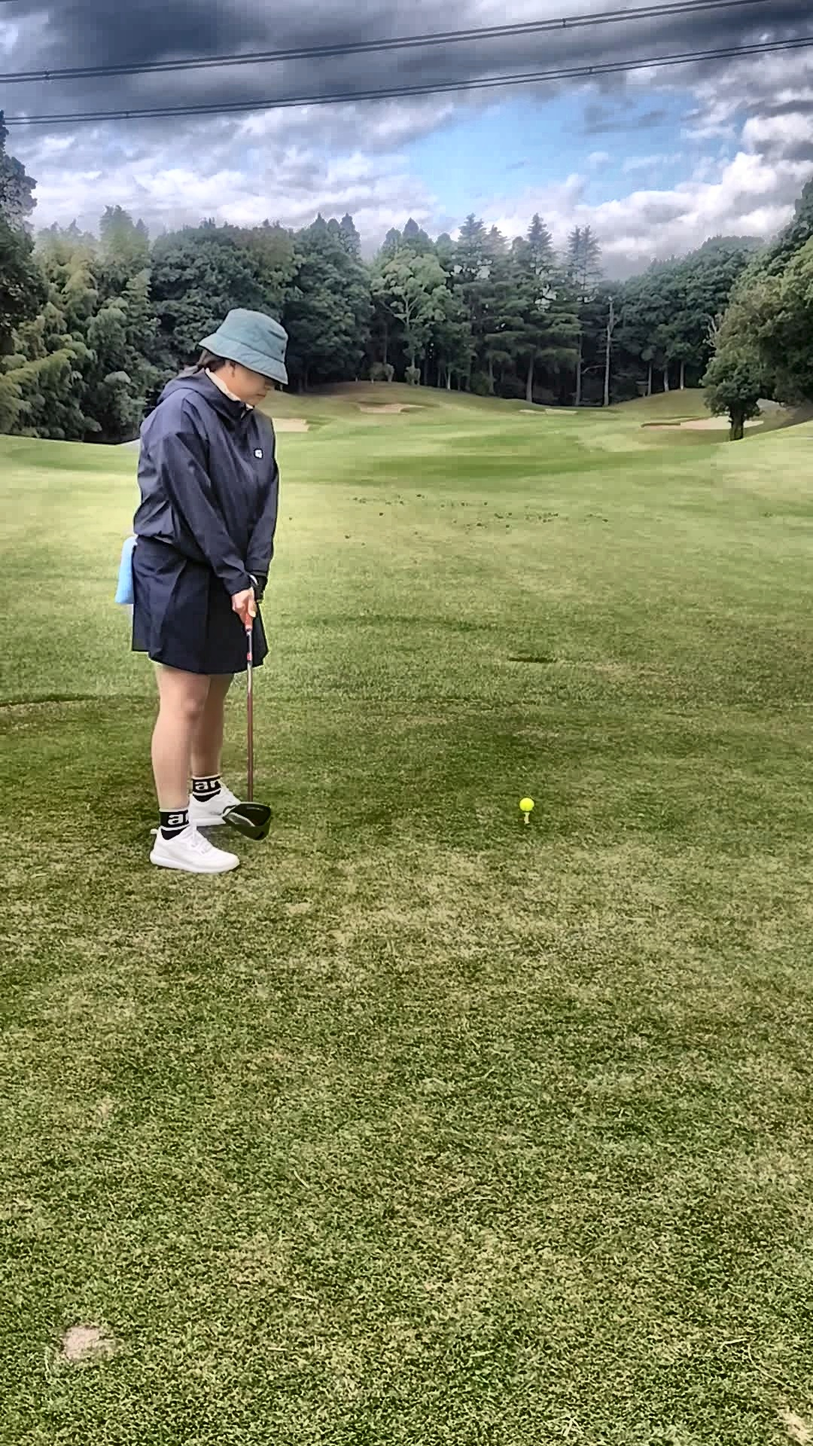clubhead: (141, 764, 364, 901)
